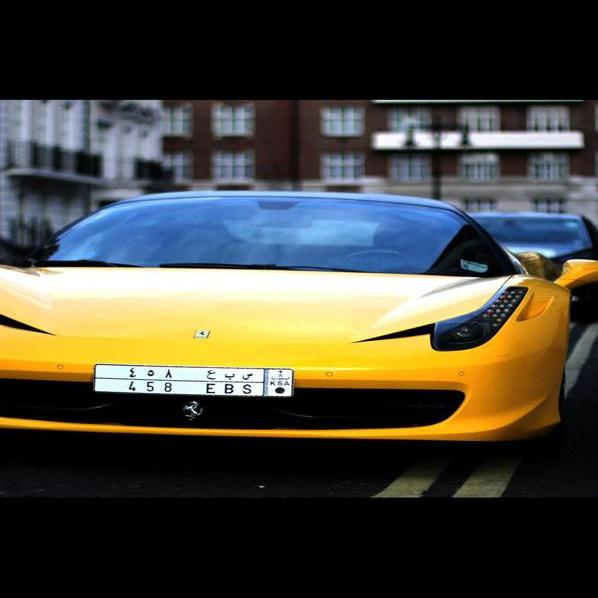numberplate: (93, 364, 296, 400)
